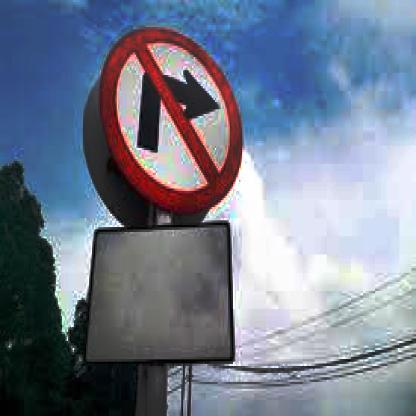No right turn: (94, 19, 239, 208)
